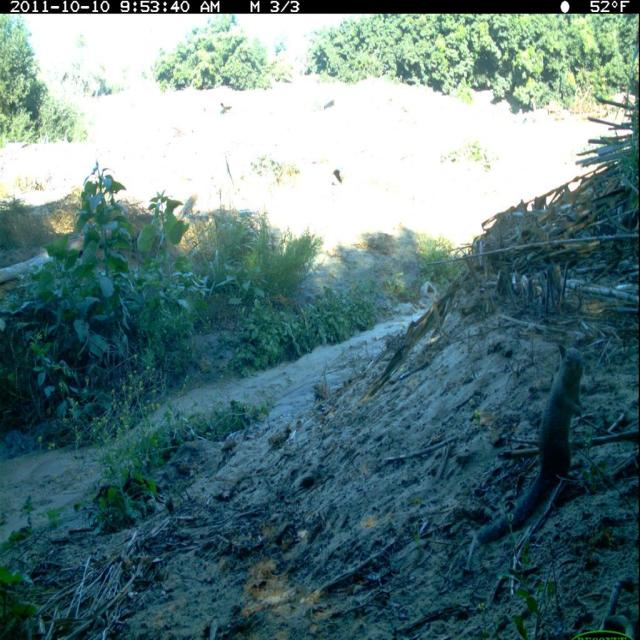squirrel: (478, 337, 591, 566)
